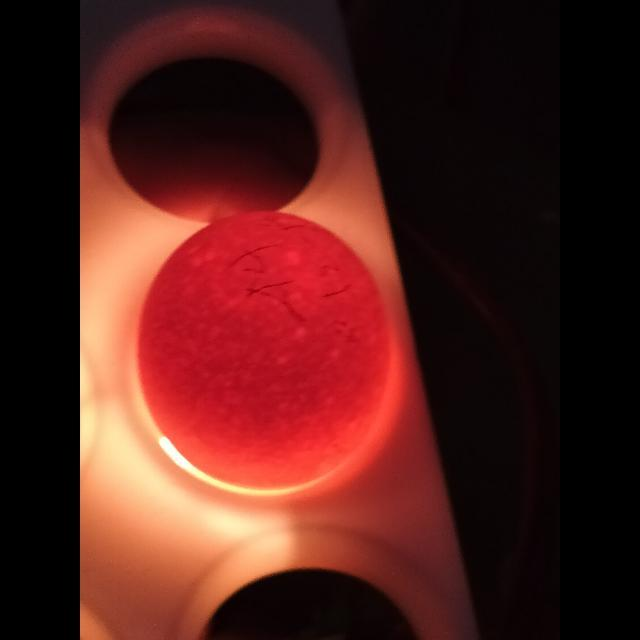Infertile: (138, 202, 402, 476)
